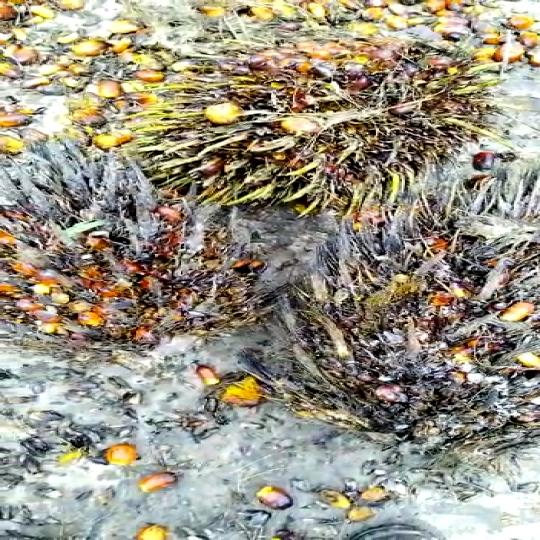terlalu masak: (88, 39, 518, 223), (242, 216, 540, 446), (0, 139, 299, 357)
